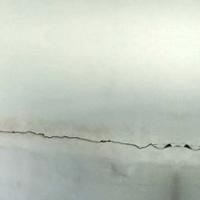crack: (0, 104, 199, 178)
